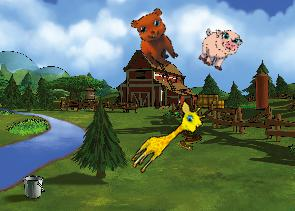bear: (123, 3, 191, 73)
giraffe: (126, 96, 210, 182)
pig: (193, 21, 245, 75)
